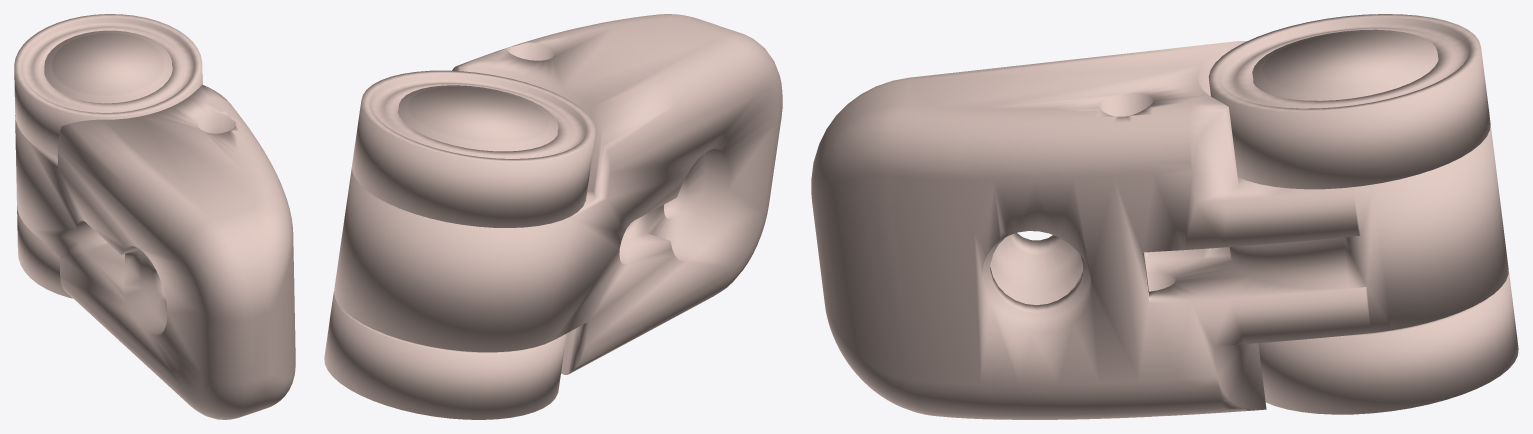
Rendered from ring_tip_1.obj.
3 views of the same model, side by side, from view 1: azimuth 30°, elevation 25°; view 2: azimuth 150°, elevation 25°; view 3: azimuth 270°, elevation 25° (orthographic). The views are drawn at different scales.
Size of the model in its own units: 10.97 by 14.63 by 25.78.
